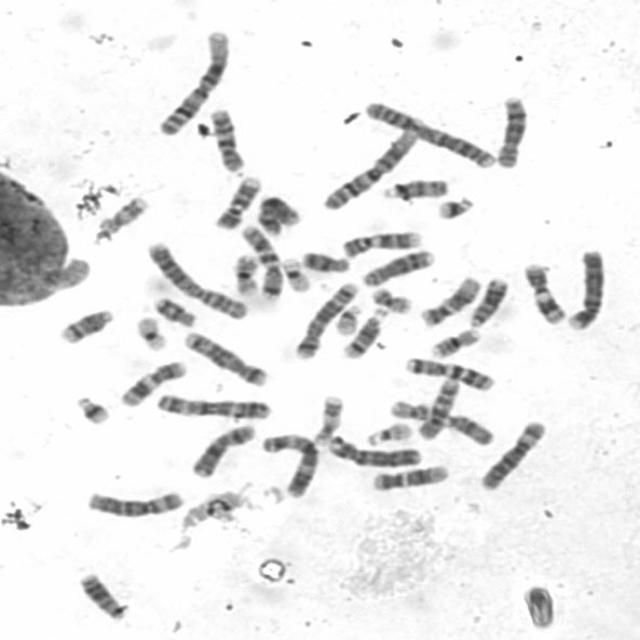A1: (317, 120, 424, 212), (153, 25, 234, 136)
A2: (357, 96, 500, 170), (142, 236, 252, 321)
A3: (257, 427, 323, 498), (151, 388, 274, 420)
B4: (562, 243, 609, 331), (322, 430, 423, 468)
B5: (289, 276, 362, 360), (179, 325, 272, 389)
C10: (413, 372, 463, 440), (204, 102, 247, 174)
C11: (114, 356, 189, 408), (520, 258, 571, 325)
C12: (416, 271, 484, 328), (366, 459, 451, 492)
C6: (475, 415, 550, 492), (82, 484, 188, 520)
C7: (235, 220, 285, 302), (399, 351, 496, 392)
C8: (357, 244, 438, 288), (493, 90, 532, 169)
C9: (210, 170, 264, 231), (337, 224, 425, 260)
D13: (74, 566, 130, 622), (465, 272, 512, 328)
D14: (336, 303, 386, 359), (54, 302, 118, 345)
D15: (377, 173, 452, 201), (442, 410, 498, 447)
E16: (426, 324, 484, 359), (229, 249, 262, 297)
E17: (94, 190, 152, 237), (309, 390, 345, 446)
E18: (149, 292, 199, 328), (297, 247, 353, 274)
F19: (130, 311, 170, 352), (277, 252, 313, 294)
F20: (368, 282, 414, 314), (385, 395, 432, 421)
G21: (70, 390, 113, 426), (431, 191, 477, 221)
G22: (360, 416, 416, 447), (330, 298, 366, 336)
X: (183, 419, 257, 479), (254, 190, 304, 236)
